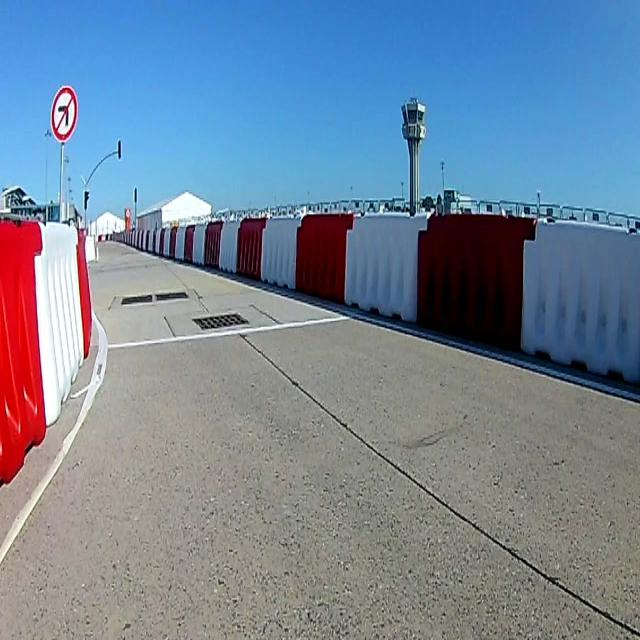soladonulmez: (51, 86, 77, 142)
